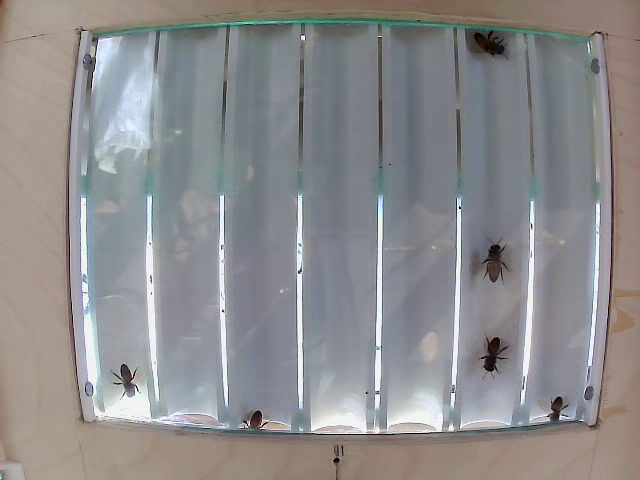bee: (471, 230, 505, 281), (474, 333, 515, 373), (471, 35, 503, 73), (110, 365, 148, 394)
